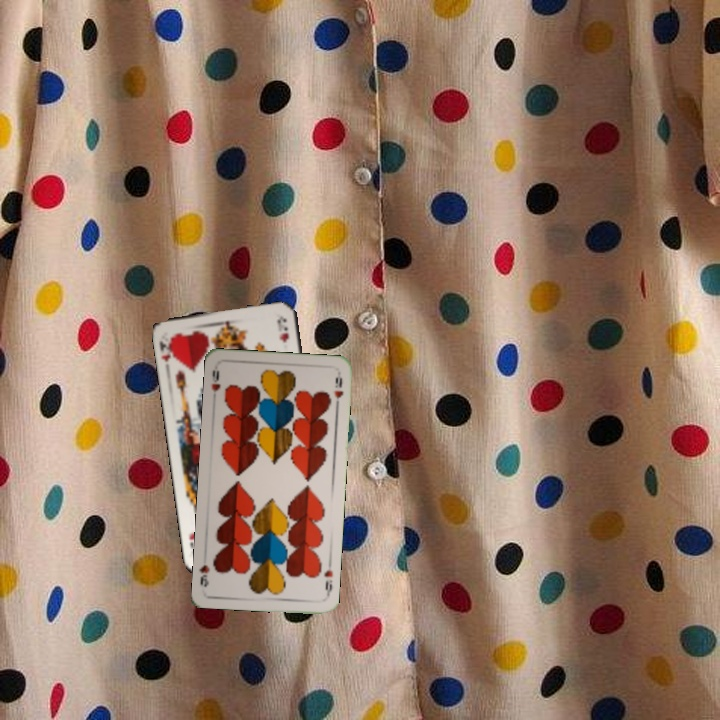H9: (320, 558, 335, 599), (207, 366, 223, 394)
HK: (156, 333, 178, 364)
